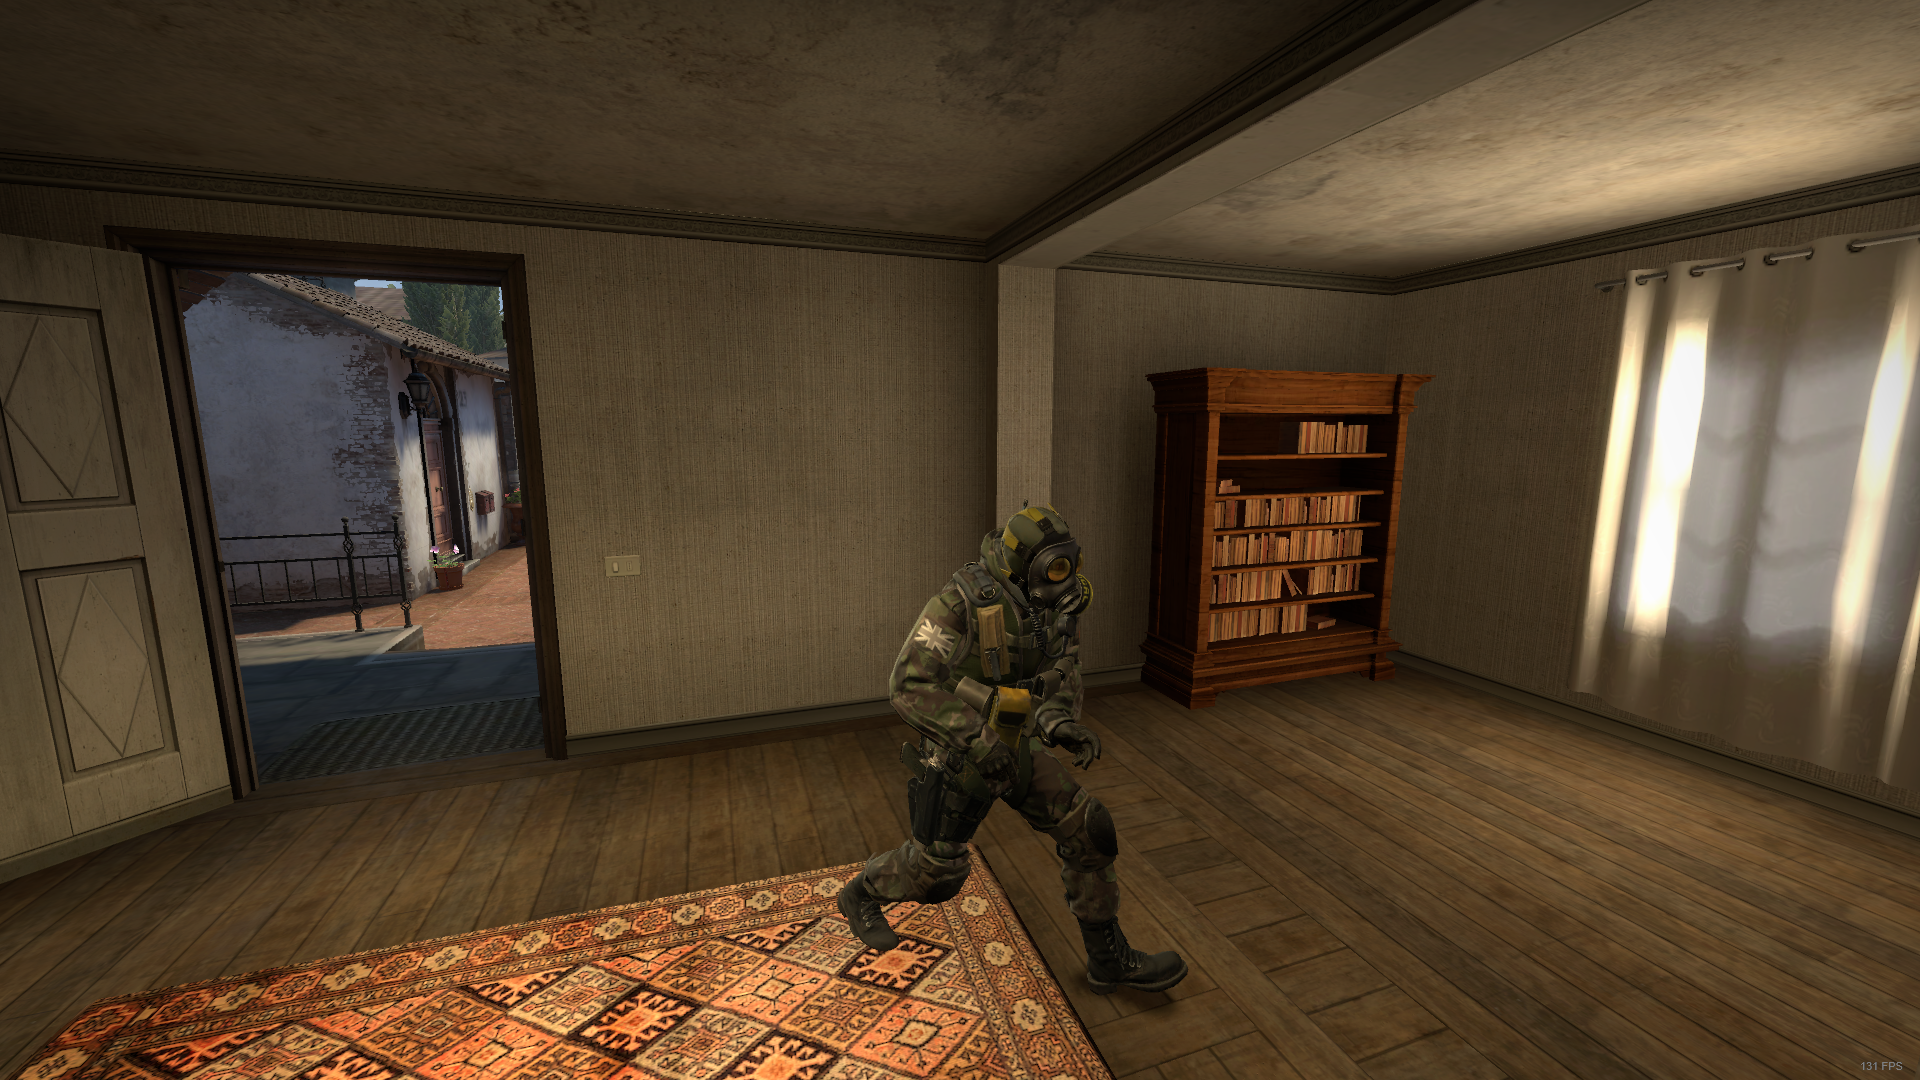ct: (822, 495, 1199, 1014)
